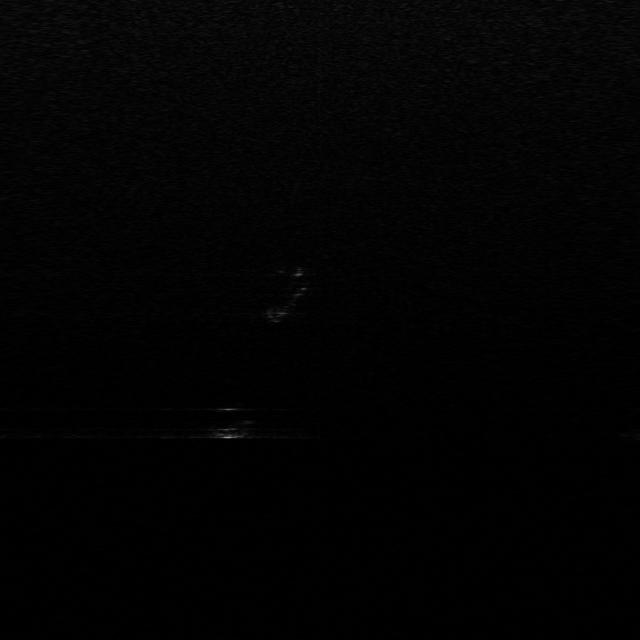ball: (206, 406, 253, 440)
tyre: (266, 265, 310, 324)
